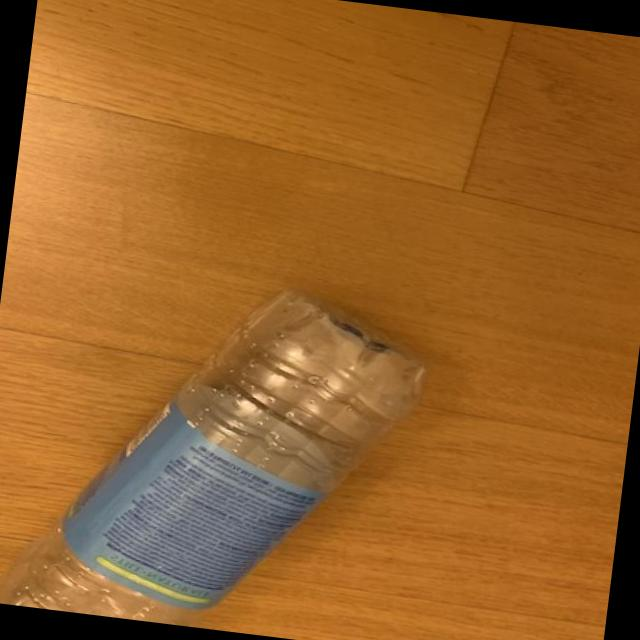plastic_bottle: (0, 255, 438, 640)
